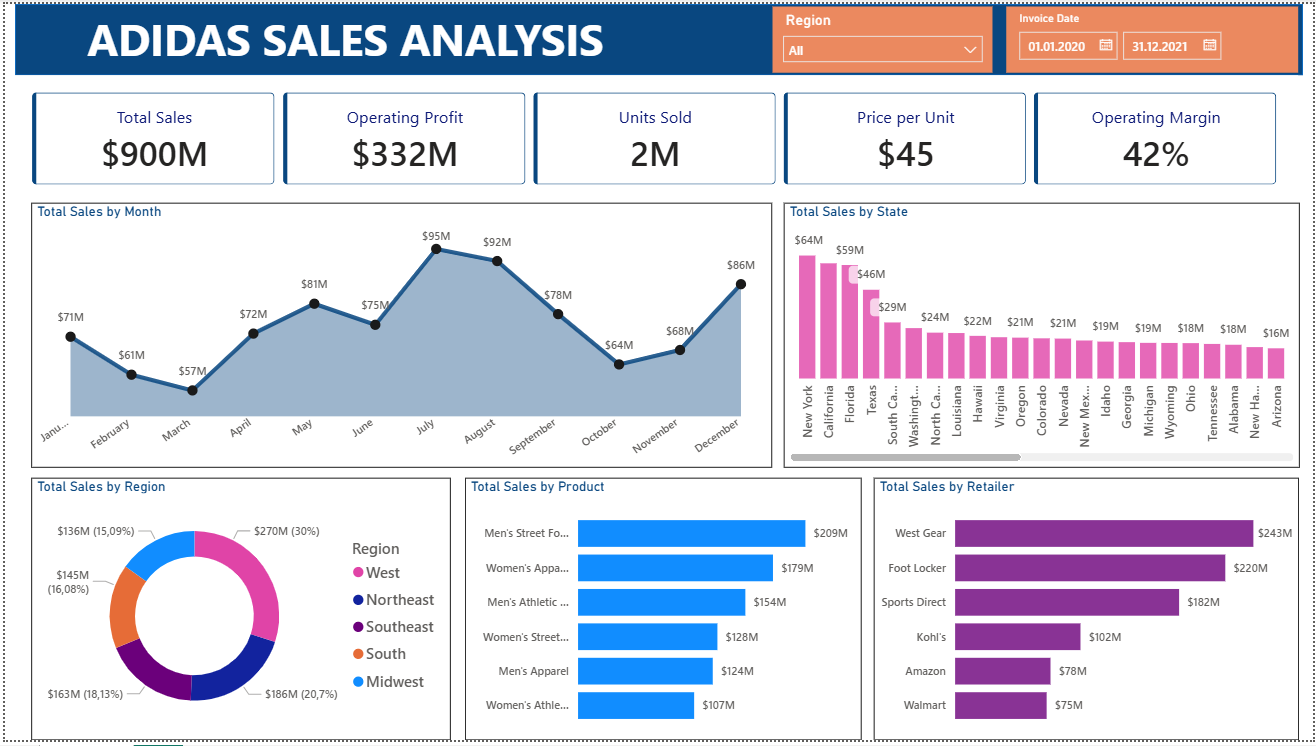

The page's visual inventory and layout, read from the dashboard file:
{"tool":"powerbi","page":{"name":"Page 1","canvas":[1280,720],"ordinal":0},"visuals":[{"type":"shape","box":[9.6,0,1260,70],"z":0},{"type":"textbox","box":[49.4,0,568.1,70],"z":1},{"type":"cardVisual","fields":{"Data":["Sum(Data Sales Adidas.Total Sales)","Sum(Data Sales Adidas.Operating Profit)","Sum(Data Sales Adidas.Units Sold)","Avg(Data Sales Adidas.Price per Unit)","Avg(Data Sales Adidas.Operating Margin)"]},"box":[9.6,70,1255.6,124.9],"z":2},{"type":"areaChart","title":"Total Sales by Month","fields":{"Category":["Data Sales Adidas.Invoice Date.Variation.Date Hierarchy.Month"],"Y":["Sum(Data Sales Adidas.Total Sales)"]},"box":[26.1,194.9,724.5,259.3],"z":3},{"type":"donutChart","fields":{"Y":["Sum(Data Sales Adidas.Total Sales)"],"Category":["Data Sales Adidas.Region"]},"box":[26.1,463.8,410,256.6],"z":5},{"type":"barChart","fields":{"Category":["Data Sales Adidas.Product"],"Y":["Sum(Data Sales Adidas.Total Sales)"]},"box":[450.1,463.8,388.3,256.6],"z":6},{"type":"barChart","fields":{"Y":["Sum(Data Sales Adidas.Total Sales)"],"Category":["Data Sales Adidas.Retailer"]},"box":[849.4,463.8,415.8,256.6],"z":7},{"type":"slicer","fields":{"Values":["Data Sales Adidas.Region"]},"box":[750.6,2.7,215.4,64.5],"z":8},{"type":"slicer","fields":{"Values":["Data Sales Adidas.Invoice Date"]},"box":[979.8,2.7,285.4,64.5],"z":9},{"type":"lineClusteredColumnComboChart","fields":{"Y":["Sum(Data Sales Adidas.Total Sales)"],"Category":["Data Sales Adidas.State"]},"box":[761.6,194.9,505,259.3],"z":10}]}

Visuals, with their boxes in screenshot pixels (x1, y1, x2, y2), scaled from the page's 1280x720 canvas onto the 1316x746 screenshot:
shape: <bbox>10, 0, 1305, 73</bbox>
textbox: <bbox>51, 0, 635, 73</bbox>
cardVisual - Sum(Data Sales Adidas.Total Sales) x Sum(Data Sales Adidas.Operating Profit): <bbox>10, 73, 1301, 202</bbox>
"Total Sales by Month" areaChart: <bbox>27, 202, 772, 471</bbox>
donutChart - Sum(Data Sales Adidas.Total Sales) x Data Sales Adidas.Region: <bbox>27, 481, 448, 745</bbox>
barChart - Data Sales Adidas.Product x Sum(Data Sales Adidas.Total Sales): <bbox>463, 481, 862, 745</bbox>
barChart - Sum(Data Sales Adidas.Total Sales) x Data Sales Adidas.Retailer: <bbox>873, 481, 1301, 745</bbox>
slicer - Data Sales Adidas.Region: <bbox>772, 3, 993, 70</bbox>
slicer - Data Sales Adidas.Invoice Date: <bbox>1007, 3, 1301, 70</bbox>
lineClusteredColumnComboChart - Sum(Data Sales Adidas.Total Sales) x Data Sales Adidas.State: <bbox>783, 202, 1302, 471</bbox>
